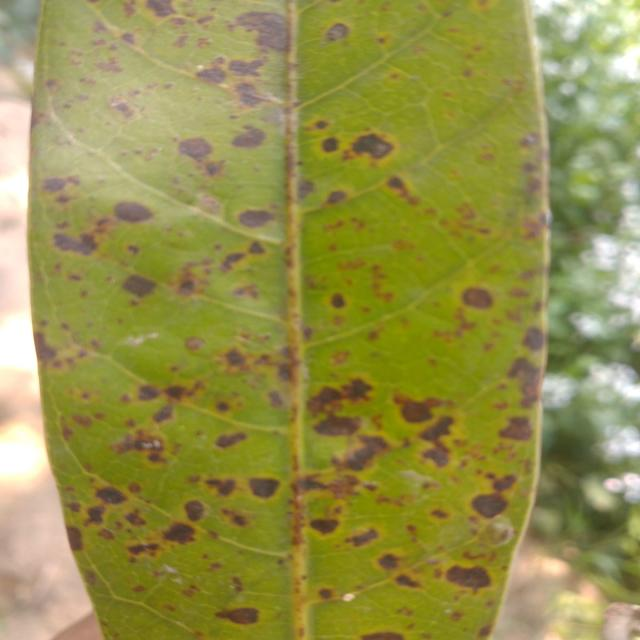Anthracnose: (503, 351, 553, 410), (339, 426, 391, 479), (111, 422, 171, 465), (237, 12, 287, 52), (444, 556, 495, 595), (469, 483, 510, 525), (304, 380, 345, 421), (350, 128, 397, 163), (419, 412, 460, 449), (231, 120, 268, 158), (306, 392, 356, 420), (176, 134, 216, 166), (120, 269, 157, 302), (420, 438, 455, 471), (314, 413, 360, 437), (232, 78, 264, 111), (94, 480, 128, 511), (162, 519, 199, 547), (500, 414, 534, 442), (340, 377, 374, 404), (33, 329, 59, 364), (54, 234, 97, 255), (346, 525, 380, 551), (114, 201, 154, 223), (217, 246, 246, 276), (521, 324, 550, 354), (195, 61, 228, 86), (222, 345, 250, 374), (401, 399, 433, 423), (229, 58, 267, 78), (182, 496, 209, 524), (394, 571, 424, 596), (216, 608, 259, 625), (462, 287, 493, 309), (214, 430, 248, 450), (204, 476, 236, 497), (238, 210, 275, 228), (135, 380, 162, 404), (124, 507, 148, 533), (150, 403, 177, 426), (491, 472, 520, 493), (250, 478, 280, 498), (41, 175, 69, 194), (323, 187, 349, 207), (146, 0, 176, 17), (67, 525, 85, 553), (127, 543, 160, 558), (163, 383, 190, 401), (310, 518, 339, 534), (325, 23, 350, 41), (246, 239, 266, 260), (184, 334, 206, 353), (328, 291, 348, 311), (85, 505, 105, 525), (377, 553, 400, 570), (298, 180, 316, 201), (360, 632, 405, 639), (317, 585, 335, 602), (322, 137, 340, 154), (478, 625, 492, 637)
